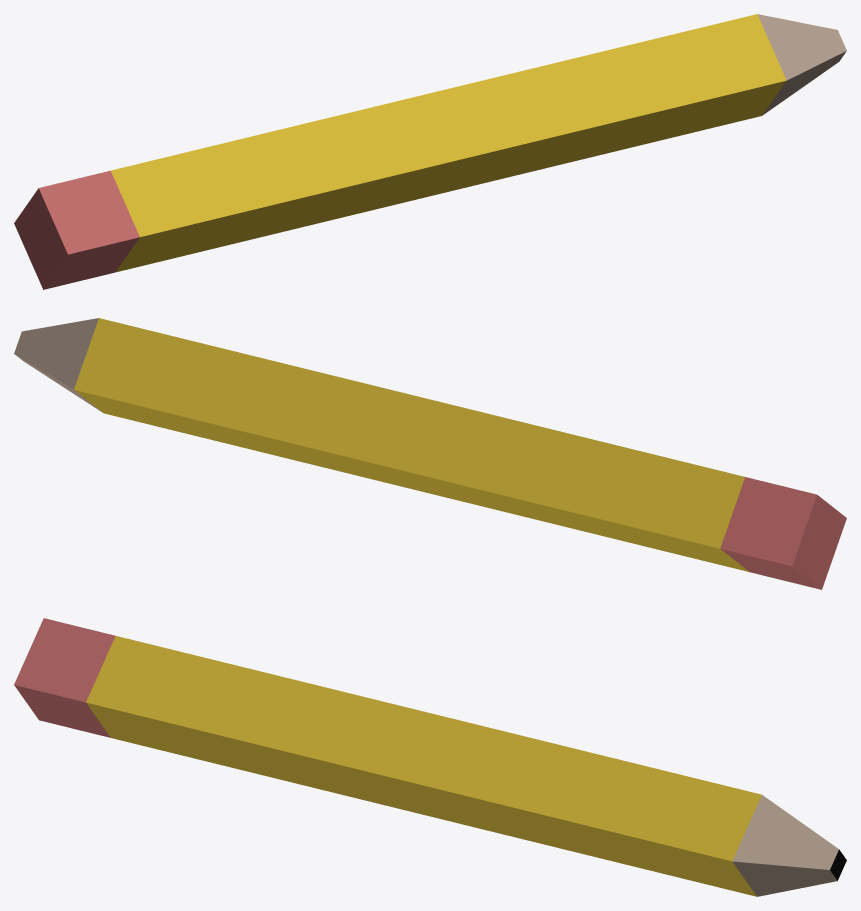
File: Pencil_short.fbx
3 views of the same model, one above another, from view 1: azimuth 30°, elevation 25°; view 2: azimuth 150°, elevation 25°; view 3: azimuth 330°, elevation 25° (orthographic).
Parts seen in each view (by area): view 1: Office_pencil_short; view 2: Office_pencil_short; view 3: Office_pencil_short.
Part boxes in pixels (x1,y1,x2,y2): Office_pencil_short: [14, 14, 846, 289]; Office_pencil_short: [14, 318, 846, 589]; Office_pencil_short: [14, 618, 846, 896].
Bounding box in the file's own units: 0.1408 × 0.0166 × 0.0171.
